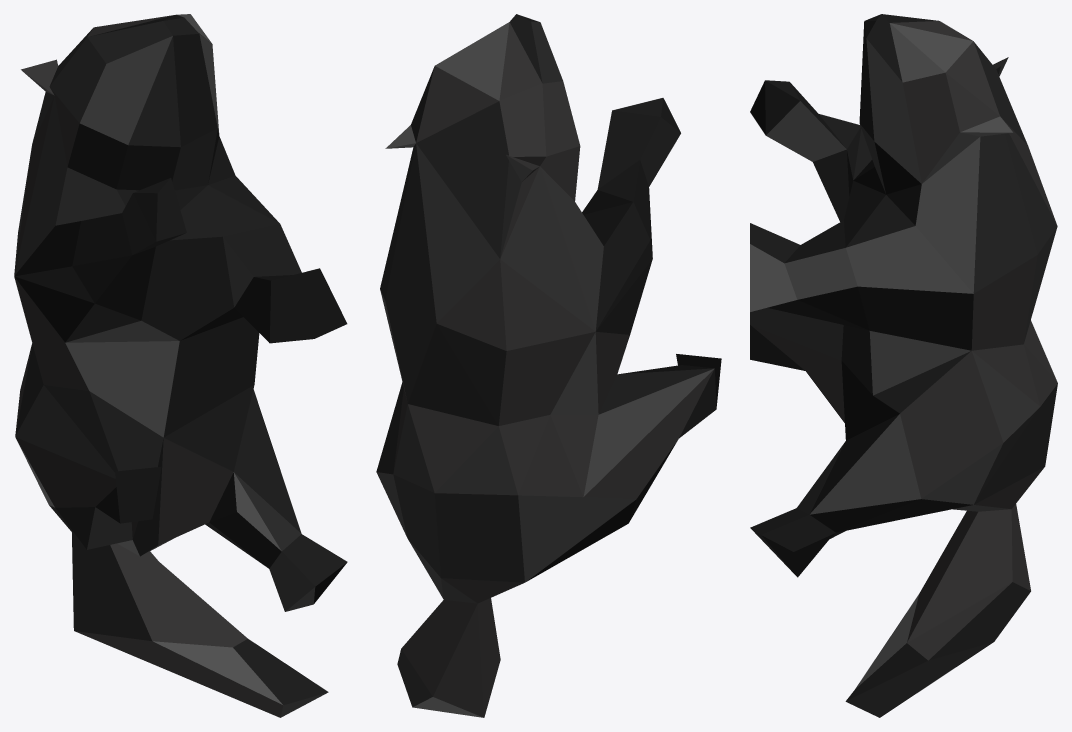
File: statue_13_2.fbx
3 views of the same model, side by side, from view 1: azimuth 30°, elevation 25°; view 2: azimuth 150°, elevation 25°; view 3: azimuth 270°, elevation 25° (orthographic). The views are drawn at different scales.
Parts seen in each view (by area): view 1: statue_13_2; view 2: statue_13_2; view 3: statue_13_2.
Part boxes in pixels (<box>): statue_13_2: <box>14,14,347,717</box>; statue_13_2: <box>376,14,721,717</box>; statue_13_2: <box>750,14,1057,717</box>.
Size of the model in its own units: 77.74 by 202 by 86.26.
